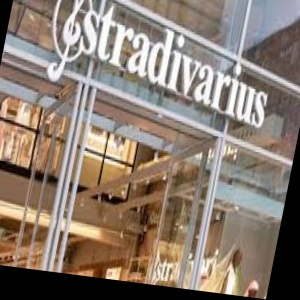stradivarius: (271, 84, 300, 92)
